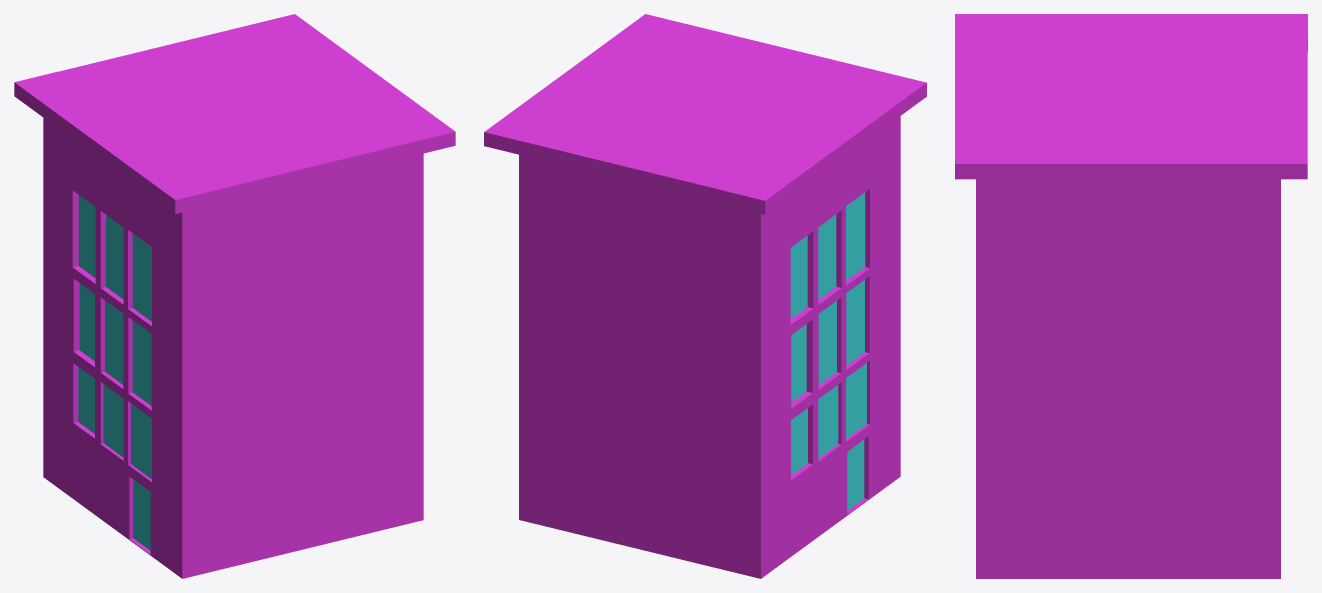
Rendered from wafla3.fbx.
3 renders of one model, left to right at view 1: azimuth 30°, elevation 25°; view 2: azimuth 150°, elevation 25°; view 3: azimuth 270°, elevation 25°, orthographic. The views are drawn at different scales.
Parts seen in each view (by area): view 1: Cube, Cube.001, Cube.006, Cube.005, Cube.003, Cube.004, Cube.009, Cube.008, Cube.002, Cube.010, Cube.007; view 2: Cube, Cube.001, Cube.006, Cube.003, Cube.005, Cube.004, Cube.009, Cube.008, Cube.002, Cube.010, Cube.007; view 3: Cube.
Part boxes in pixels (x1,y1,x2,y2): Cube: [14, 14, 455, 578]; Cube.001: [132, 233, 151, 321]; Cube.006: [132, 320, 151, 405]; Cube.005: [105, 300, 123, 384]; Cube.003: [106, 215, 123, 299]; Cube.004: [78, 195, 95, 277]; Cube.009: [131, 403, 151, 478]; Cube.008: [103, 384, 123, 457]; Cube.002: [79, 283, 94, 361]; Cube.010: [133, 479, 150, 550]; Cube.007: [78, 367, 94, 433]; Cube: [484, 14, 926, 578]; Cube.001: [846, 192, 865, 280]; Cube.006: [846, 280, 864, 365]; Cube.003: [818, 214, 836, 299]; Cube.005: [818, 301, 836, 384]; Cube.004: [790, 235, 807, 318]; Cube.009: [846, 363, 866, 438]; Cube.008: [818, 385, 838, 458]; Cube.002: [791, 324, 806, 402]; Cube.010: [847, 440, 864, 510]; Cube.007: [791, 408, 807, 475]; Cube: [955, 14, 1307, 578].
Bounding box in the file's own units: 233 × 309 × 231.
